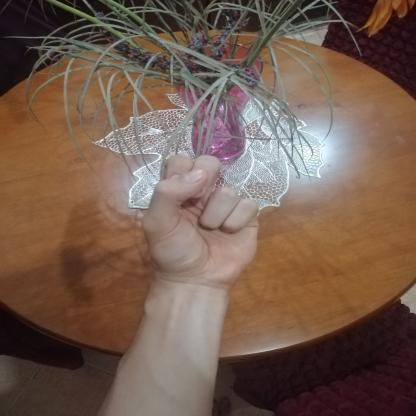QAAF: (126, 142, 288, 300)
